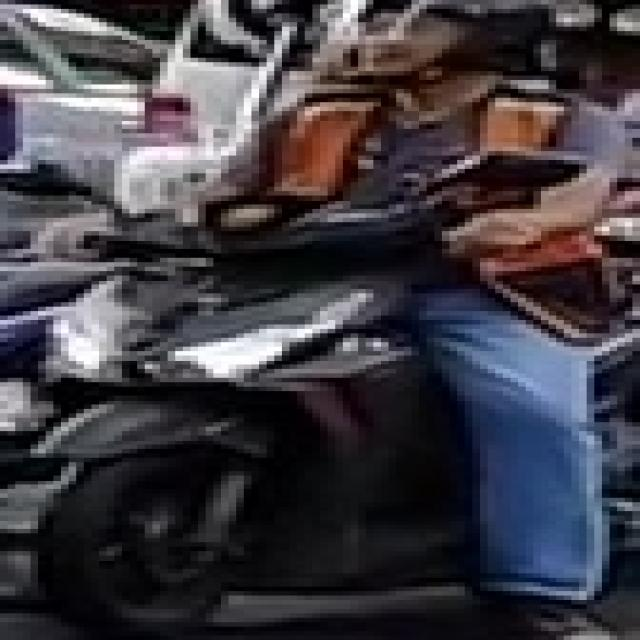tyre: (30, 449, 252, 627)
